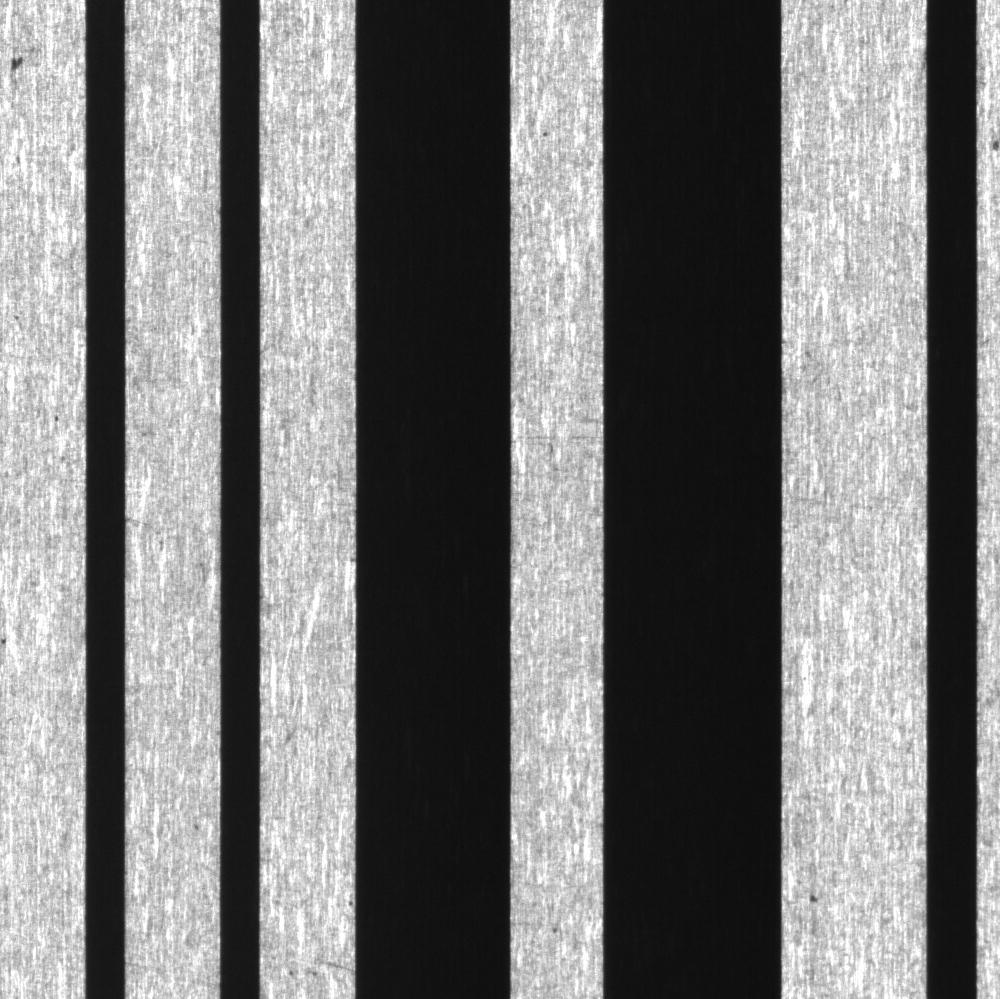Etching: (4, 45, 35, 91), (798, 873, 825, 922)
Pinhole: (531, 122, 557, 152)
Scar: (515, 418, 603, 472), (124, 942, 220, 991), (281, 933, 355, 988), (125, 503, 170, 554)
